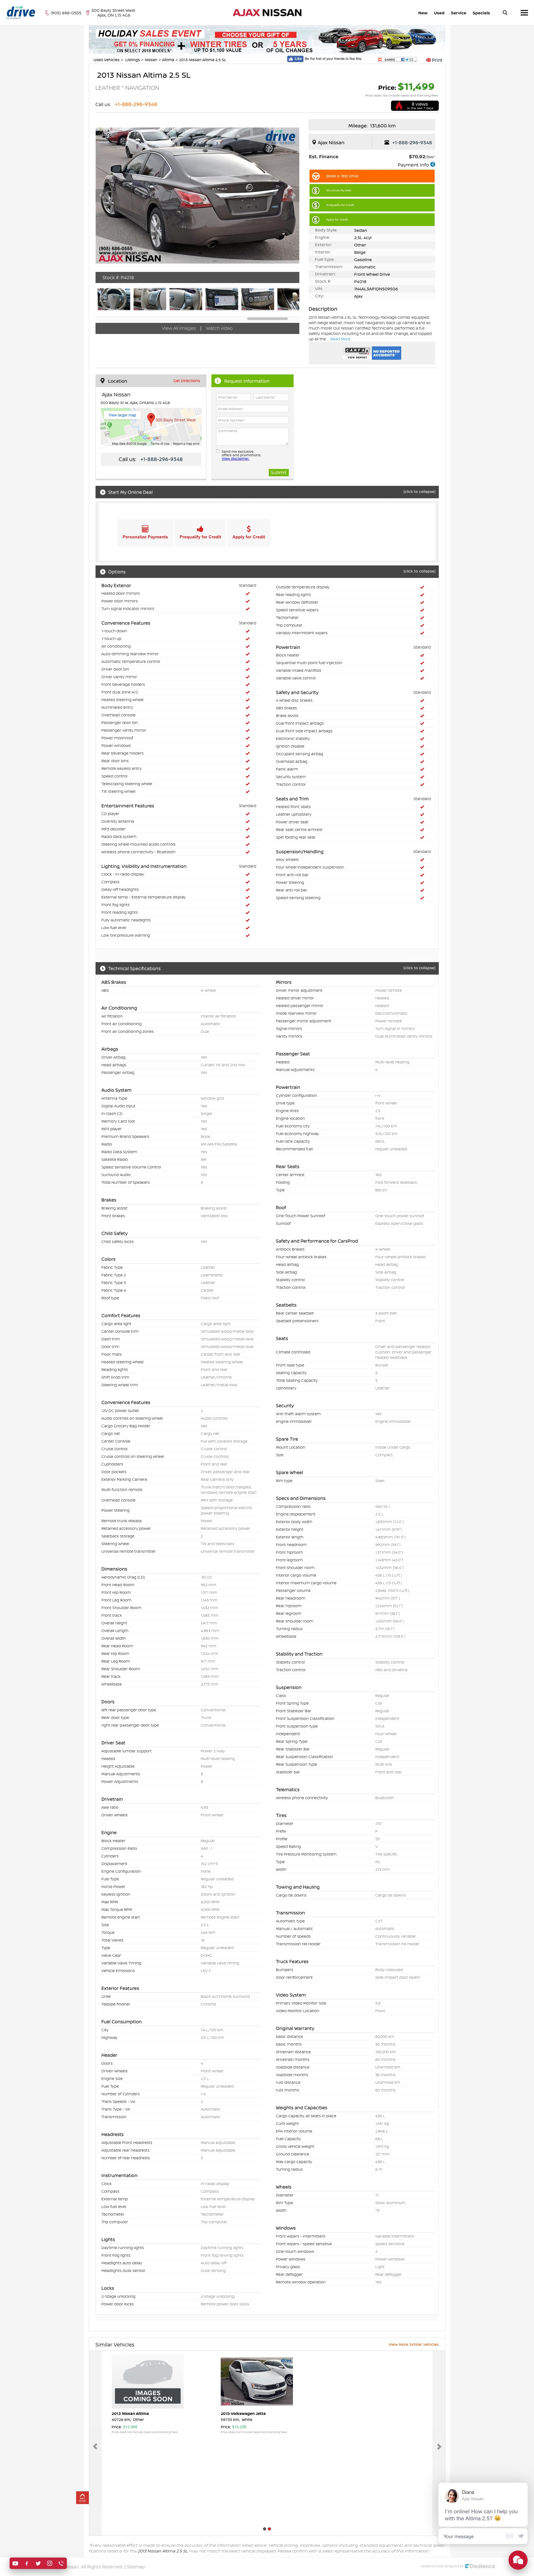car: (286, 187, 301, 204)
